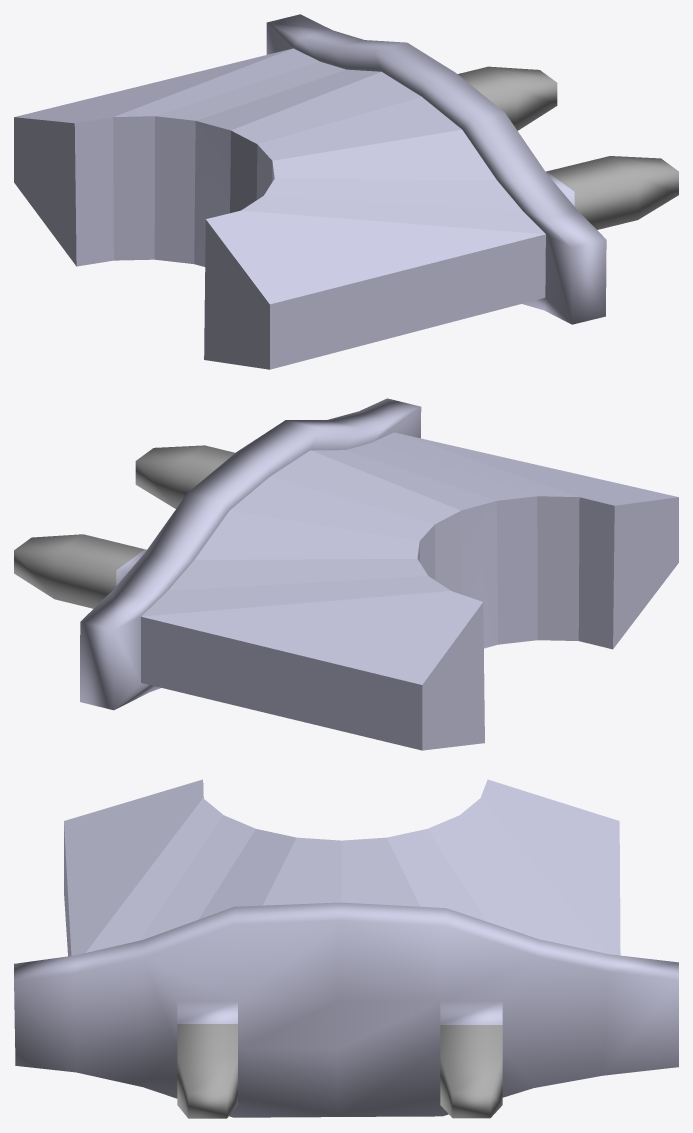
File: Stick.fbx
3 views of the same model, one above another, from view 1: azimuth 30°, elevation 25°; view 2: azimuth 150°, elevation 25°; view 3: azimuth 270°, elevation 25° (orthographic). The views are drawn at different scales.
Visible parts, largest first — view 1: pTorus1; view 2: pTorus1; view 3: pTorus1.
Part boxes in pixels (x1,y1,x2,y2): pTorus1: (14, 14, 678, 369); pTorus1: (14, 398, 678, 750); pTorus1: (14, 779, 678, 1118).
Size of the model in its own units: 2.39 by 0.8888 by 2.72.
